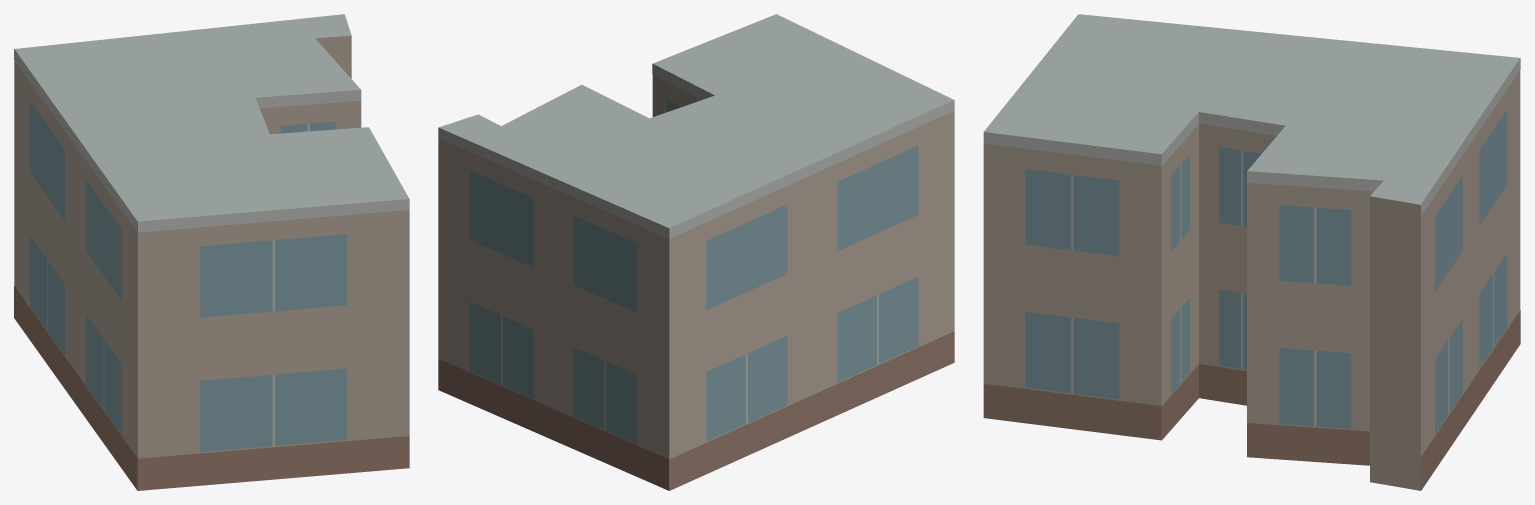
The model's file is survey-upis-32898966.glb.
The picture shows the model from 3 angles, left to right: view 1: azimuth 30°, elevation 25°; view 2: azimuth 150°, elevation 25°; view 3: azimuth 270°, elevation 25°; orthographic projection. The views are drawn at different scales.
Visible parts, largest first — view 1: survey-upis-32898966.tmp; view 2: survey-upis-32898966.tmp; view 3: survey-upis-32898966.tmp.
Part boxes in pixels (box(x1,y1,x2,y2)): survey-upis-32898966.tmp: box(14, 14, 409, 490); survey-upis-32898966.tmp: box(438, 14, 954, 490); survey-upis-32898966.tmp: box(983, 14, 1520, 490).
Bounding box in the file's own units: 8.45 × 5.9 × 10.05.
